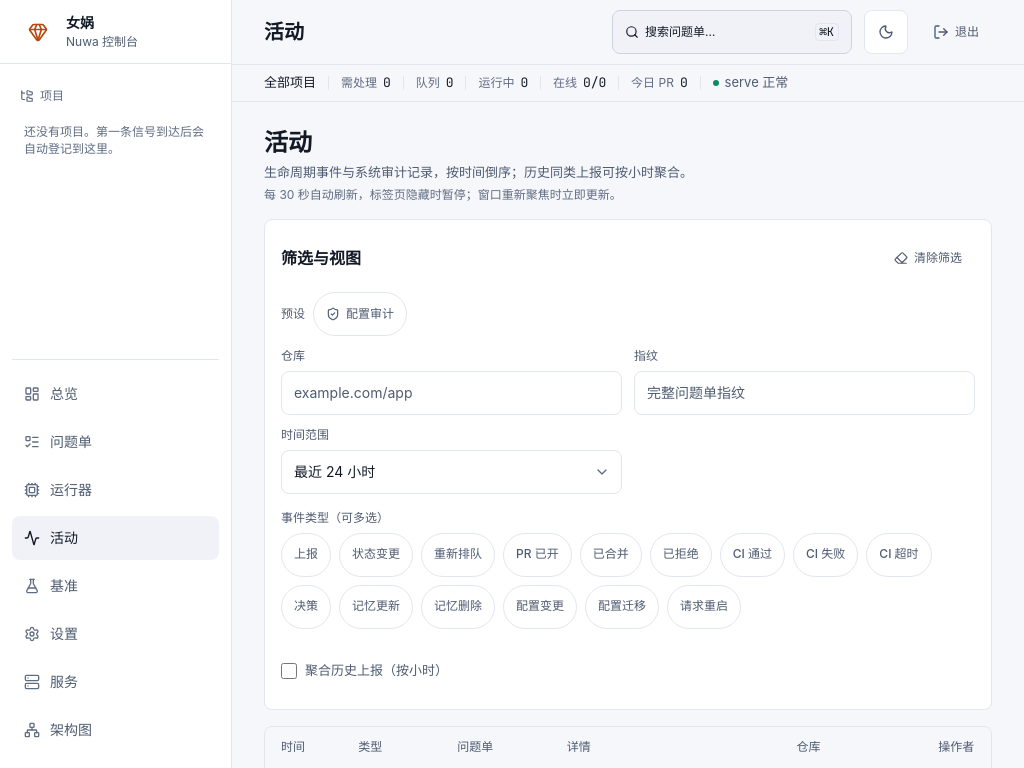
Test case: EventsPage › applies the audit preset as an action and exposes the audit badge
Expected: the text "审计视图" is not shown
Click the button "配置审计".
click(360, 314)  # box [313,292,407,336]
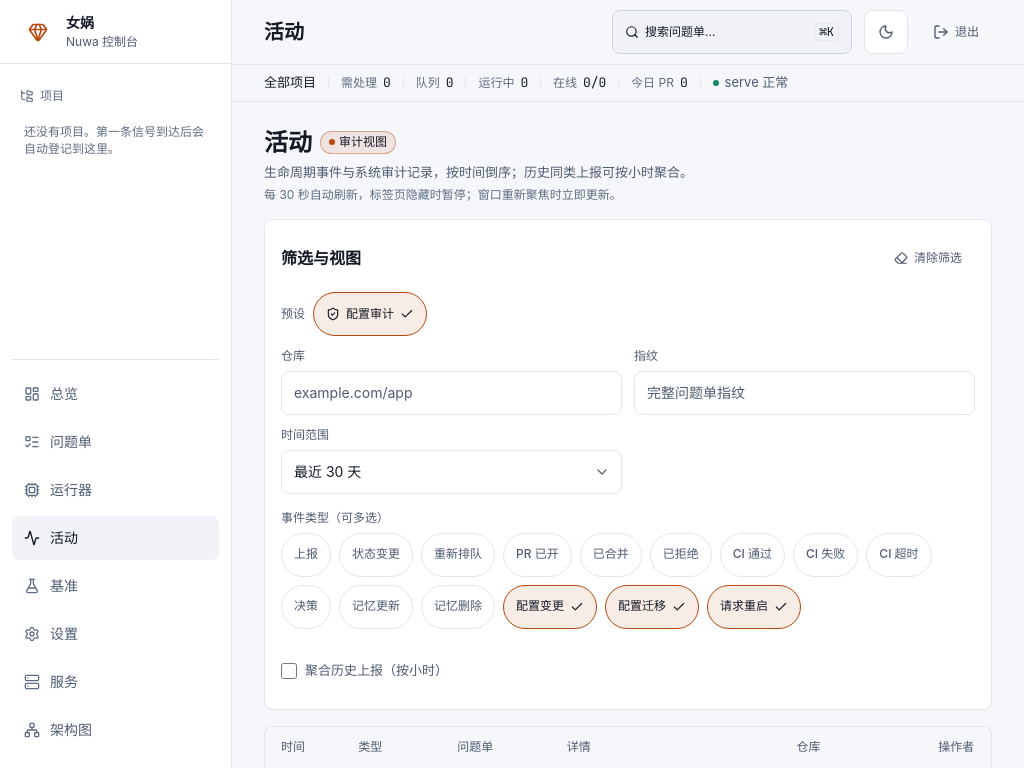
Now the text "审计视图" is shown, box [320,131,396,154]
Now the dropdown labelled "时间范围" shows "最近 30 天", box [281,450,622,494]
Click the button "配置变更".
click(550, 607)  # box [503,585,597,629]
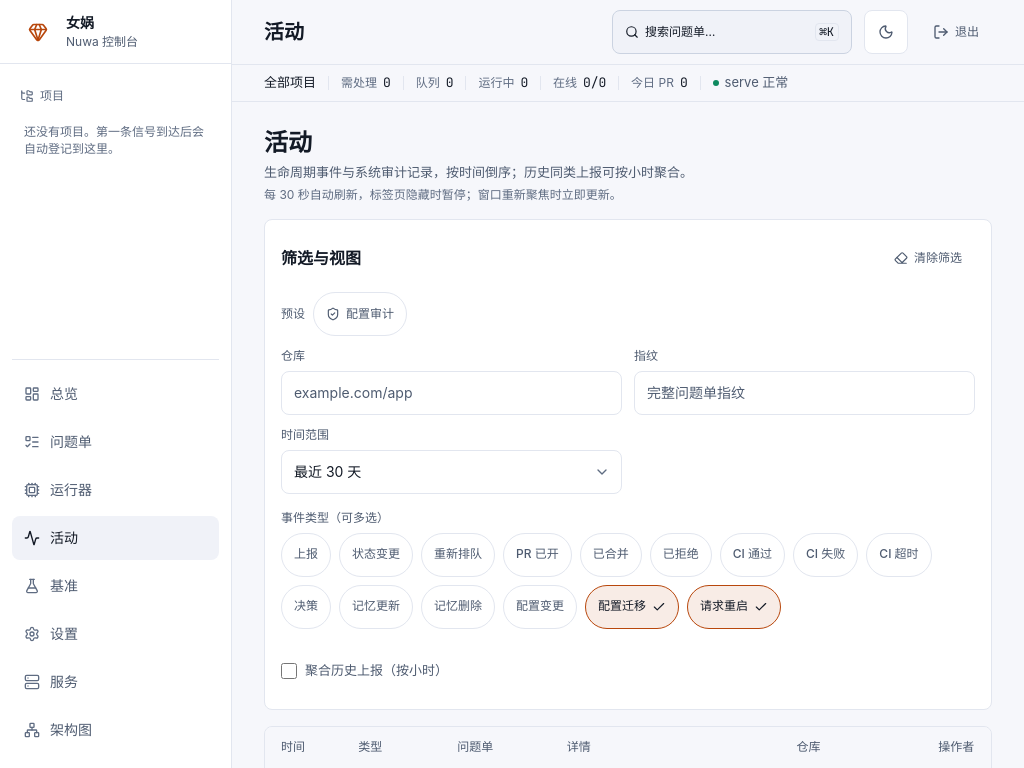
Now the dropdown labelled "时间范围" shows "最近 30 天", box [281,450,622,494]
Now the text "审计视图" is gone
